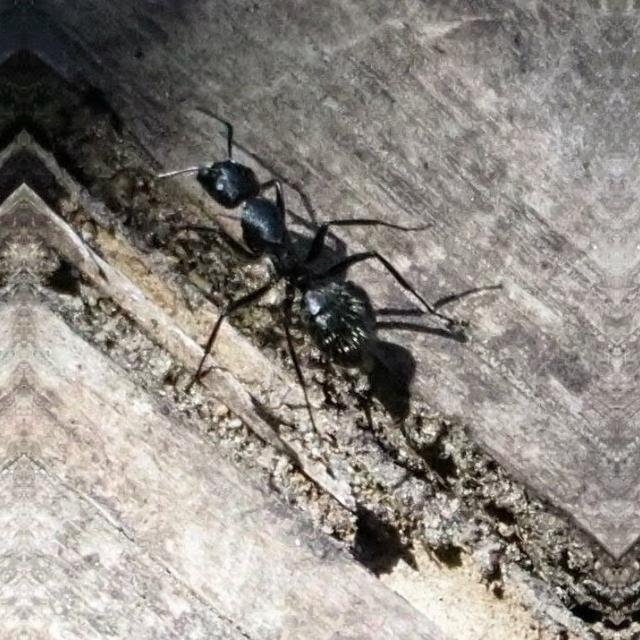Camponotus: (156, 110, 414, 398)
